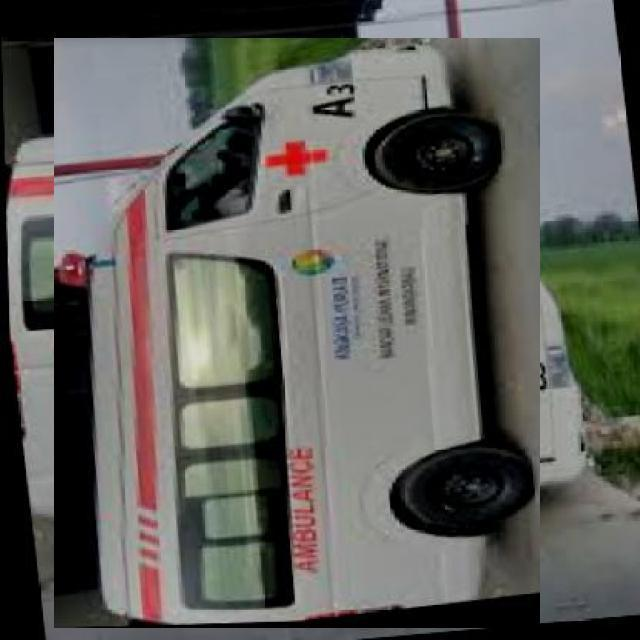emergency-vehicle: (28, 63, 567, 602)
